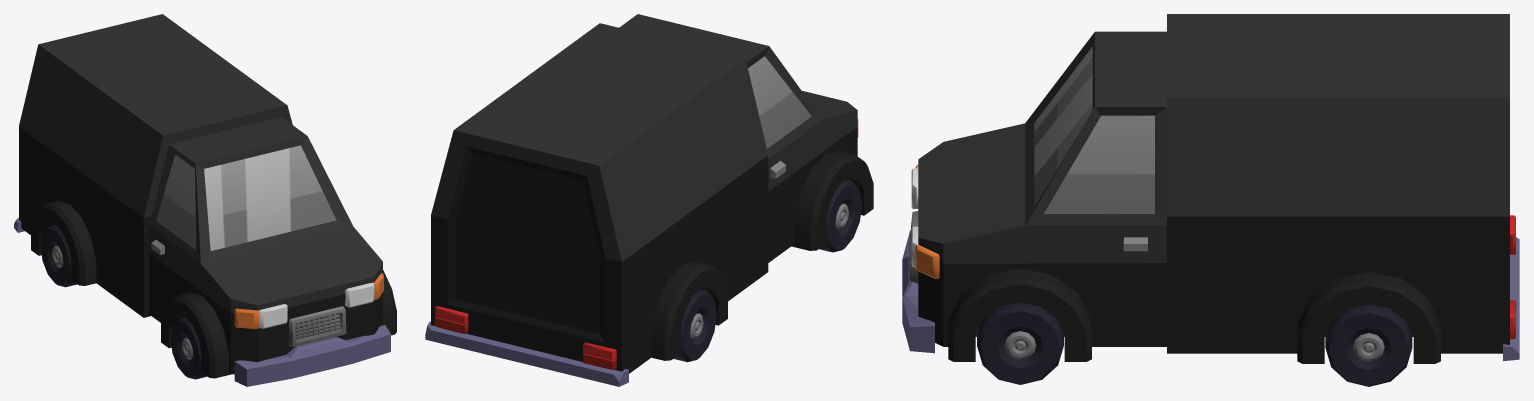
Rendered from Van_2.glb.
3 renders of one model, left to right at view 1: azimuth 30°, elevation 25°; view 2: azimuth 150°, elevation 25°; view 3: azimuth 270°, elevation 25°, orthographic. The views are drawn at different scales.
Parts seen in each view (by area): view 1: Van_2, wheel_FR, wheel_BR; view 2: Van_2, wheel_BR, wheel_FR; view 3: Van_2, wheel_BL, wheel_FL.
Boxes of the visible parts, x1,y1,x2,y2 form: Van_2: (14, 14, 396, 386); wheel_FR: (170, 317, 207, 379); wheel_BR: (40, 224, 77, 287); Van_2: (425, 14, 873, 386); wheel_BR: (673, 289, 716, 362); wheel_FR: (819, 179, 861, 252); Van_2: (902, 14, 1519, 363); wheel_BL: (1325, 304, 1412, 386); wheel_FL: (977, 302, 1063, 384).
Bounding box in the file's own units: 1.23 × 1.19 × 2.48.
Materials: 5 (5 with a texture image).
